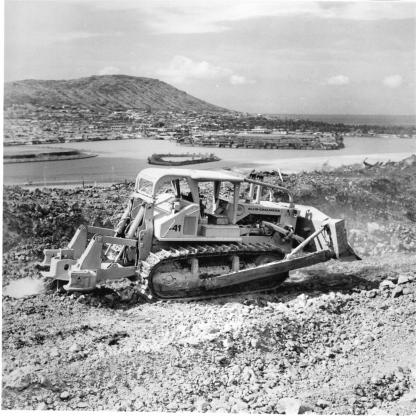bull_dozer/loader/grader: (40, 155, 366, 313)
